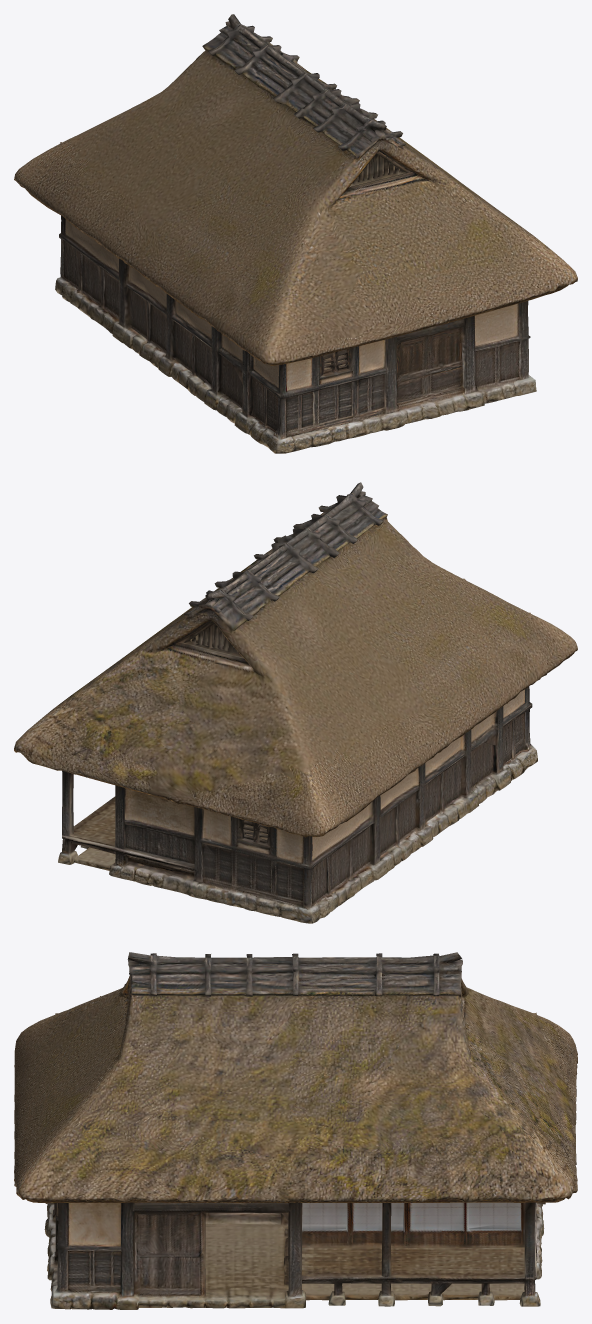
Rendered from farmhouse.glb.
The picture shows the model from 3 angles, top to bottom: view 1: azimuth 30°, elevation 25°; view 2: azimuth 150°, elevation 25°; view 3: azimuth 270°, elevation 25°; orthographic projection. The views are drawn at different scales.
Visible parts, largest first — view 1: tripo_node_efb7e77e-4f15-42bd-873a-ddf1da5babb9; view 2: tripo_node_efb7e77e-4f15-42bd-873a-ddf1da5babb9; view 3: tripo_node_efb7e77e-4f15-42bd-873a-ddf1da5babb9.
Part boxes in pixels (x1,y1,x2,y2): tripo_node_efb7e77e-4f15-42bd-873a-ddf1da5babb9: (14, 14, 577, 453); tripo_node_efb7e77e-4f15-42bd-873a-ddf1da5babb9: (14, 482, 577, 923); tripo_node_efb7e77e-4f15-42bd-873a-ddf1da5babb9: (14, 952, 577, 1309).
Bounding box in the file's own units: 9.25 × 7.49 × 13.01.
Materials: 1 (1 with a texture image).
